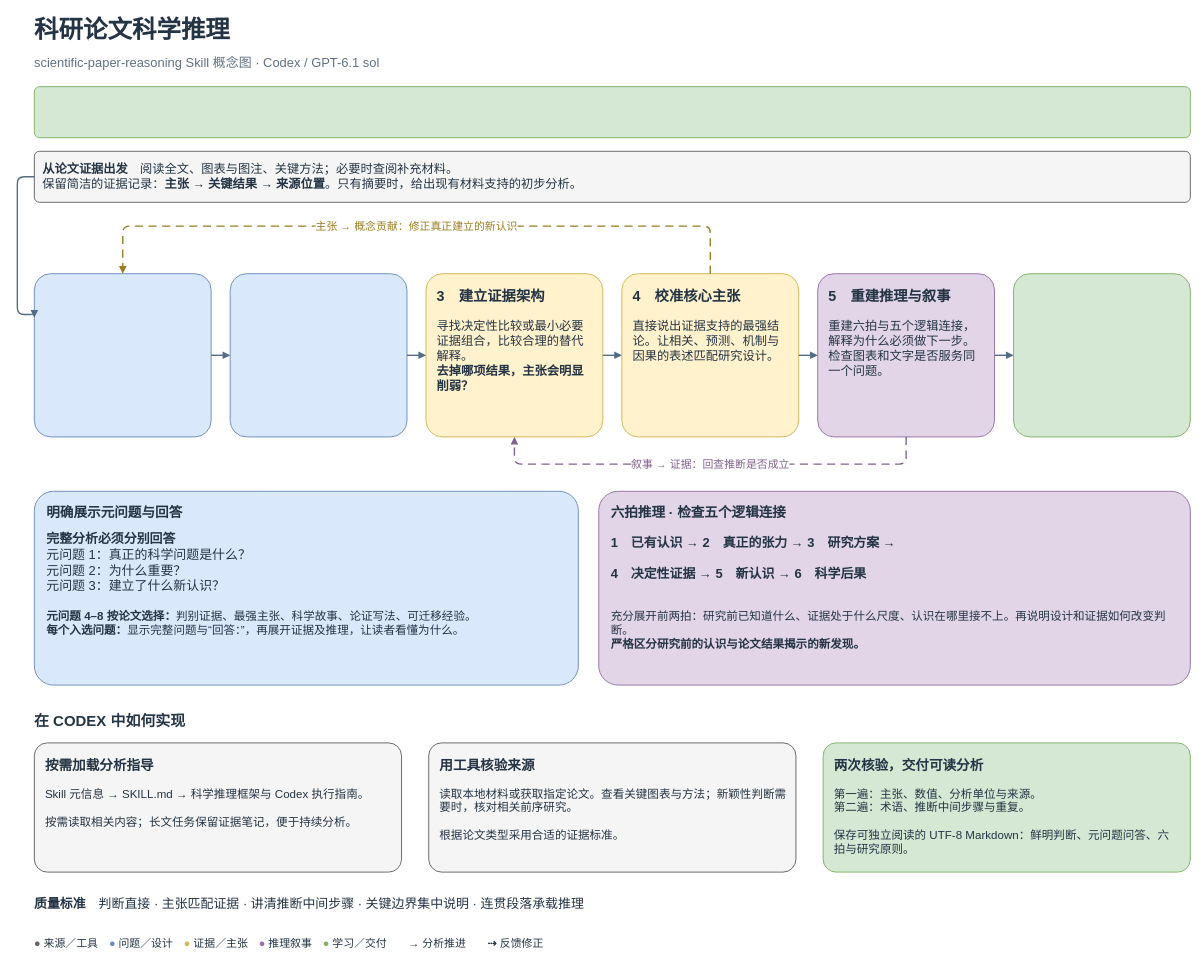
This 1202x965 diagram has some shape labels left out. Each missing label, with the centre of its shape:
"1 定位问题与张力 明确科学问题及其重要性。梳理研究前已有的认识、尚未解决的张力，以及拟建立的概念贡献。" goes at (122,355).
"2 检验可回答性 检查概念如何对应测量，以及变异、尺度、不同预测和可辨识性。 这个设计实际能回答什么？" goes at (318,355).
"6 提炼可迁移原则 提炼 3–7 条可用于其他研究的原则。指出下一个有判别力的问题，以及新认识带来的后果。" goes at (1101,355).
"目的 理解研究为什么必须走出下一步、证据改变了什么认识，并将这种推理能力用于自己的研究。" goes at (612,112).
